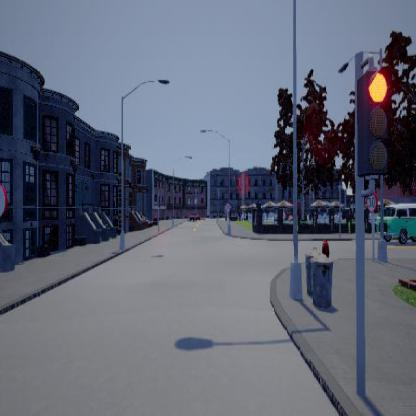traffic_light_red: (356, 54, 392, 211)
traffic_sign_30: (365, 193, 378, 219)
vehicle: (376, 203, 415, 245)
